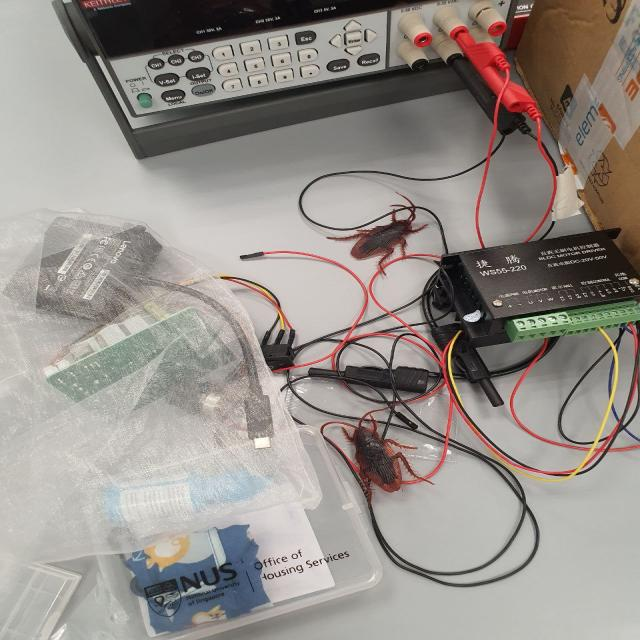Cockroach: (312, 407, 444, 503), (334, 193, 437, 278)
